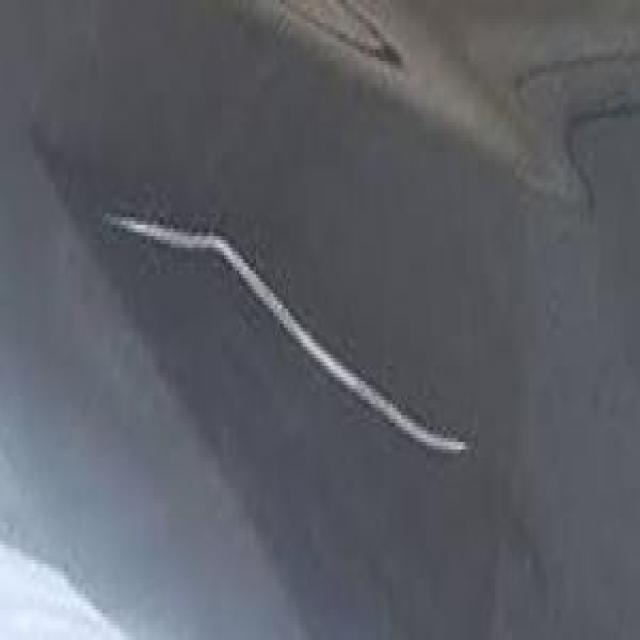scratch: (88, 194, 474, 469)
